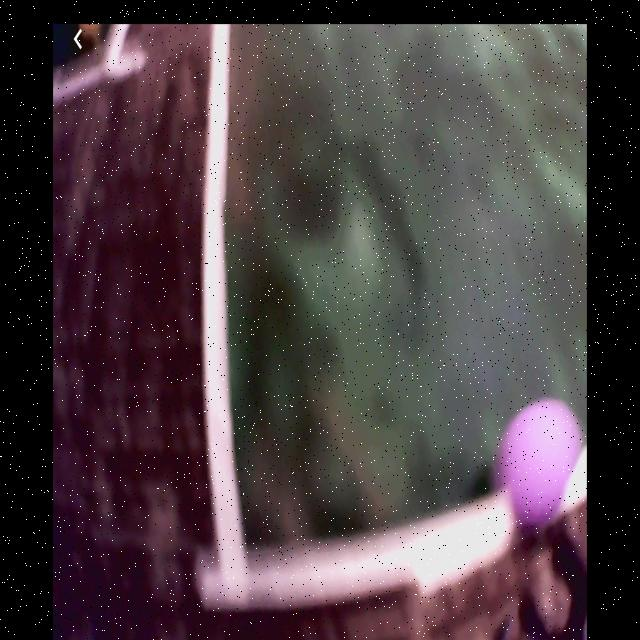ball: (499, 401, 588, 533)
